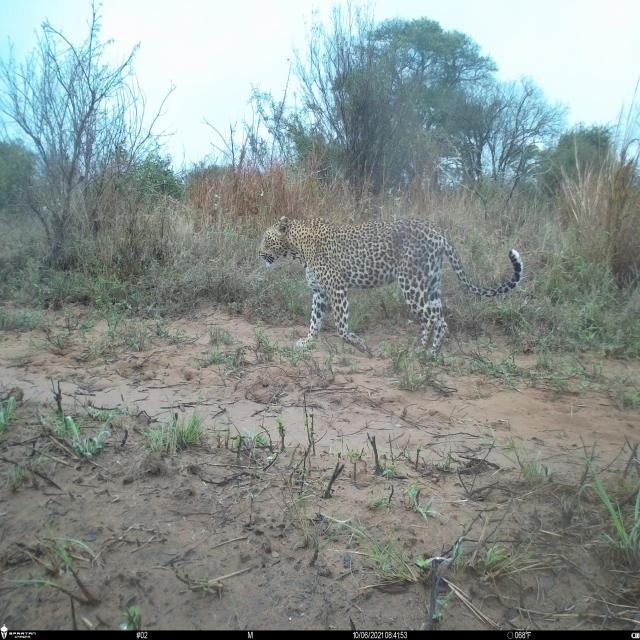Leopard: (255, 205, 521, 357)
